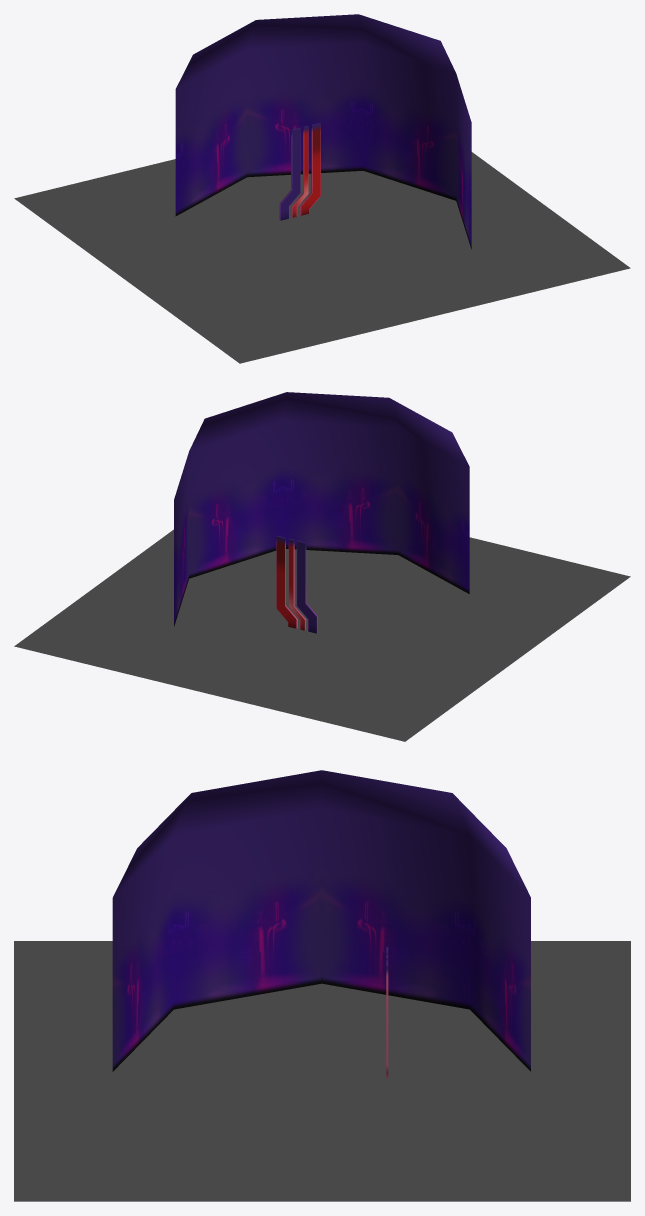
The picture shows the model from 3 angles, top to bottom: view 1: azimuth 30°, elevation 25°; view 2: azimuth 150°, elevation 25°; view 3: azimuth 270°, elevation 25°; orthographic projection. The views are drawn at different scales.
Visible parts, largest first — view 1: pPlane1, pCylinder1, pCube4; view 2: pPlane1, pCylinder1, pCube4; view 3: pPlane1, pCylinder1.
Part boxes in pixels (x1,y1,x2,y2): pPlane1: (14, 152, 630, 363); pCylinder1: (175, 14, 471, 249); pCube4: (279, 122, 320, 220); pPlane1: (14, 529, 630, 741); pCylinder1: (174, 392, 469, 626); pCube4: (276, 535, 317, 633); pPlane1: (14, 941, 630, 1201); pCylinder1: (112, 770, 530, 1071).
Size of the model in its own units: 26.27 by 11.87 by 26.27.
Materials: 3 (2 with a texture image).
